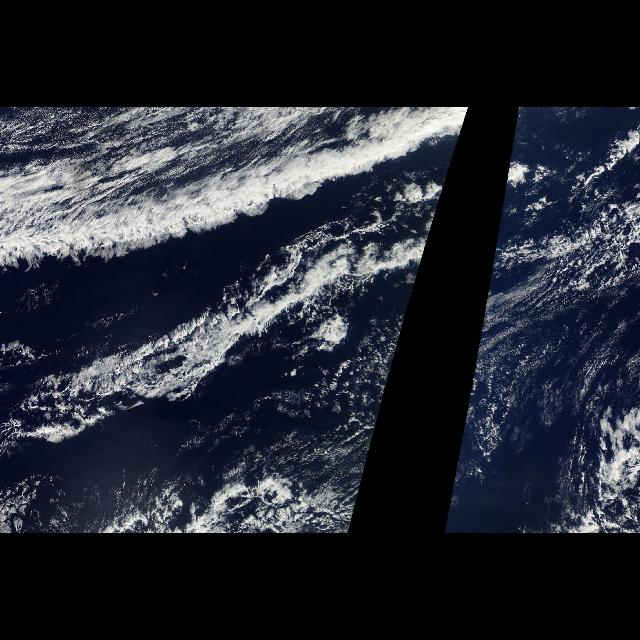Fish: (9, 207, 398, 437)
